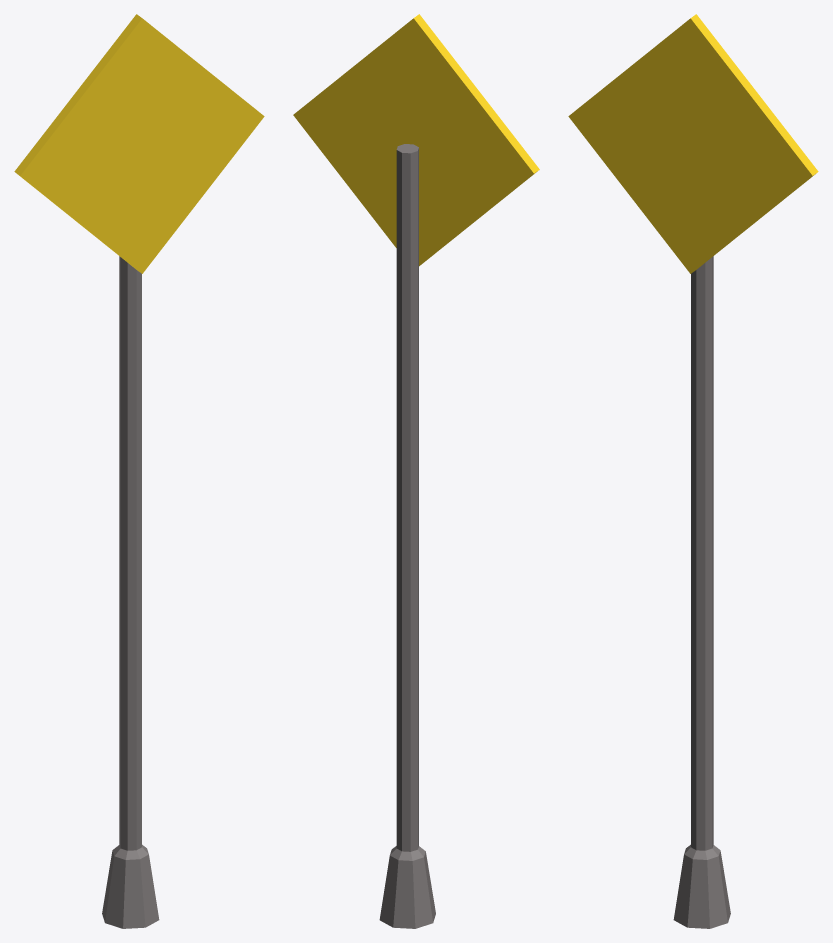
File: props_traffic-sign-rhomb.fbx
3 views of the same model, side by side, from view 1: azimuth 30°, elevation 25°; view 2: azimuth 150°, elevation 25°; view 3: azimuth 330°, elevation 25° (orthographic).
Visible parts, largest first — view 1: props_traffic_sign_rhomb; view 2: props_traffic_sign_rhomb; view 3: props_traffic_sign_rhomb.
Part boxes in pixels (x1,y1,x2,y2): props_traffic_sign_rhomb: (14,14,264,928); props_traffic_sign_rhomb: (293,14,539,928); props_traffic_sign_rhomb: (568,14,818,928).
Size of the model in its own units: 56.4 by 200 by 11.86.
